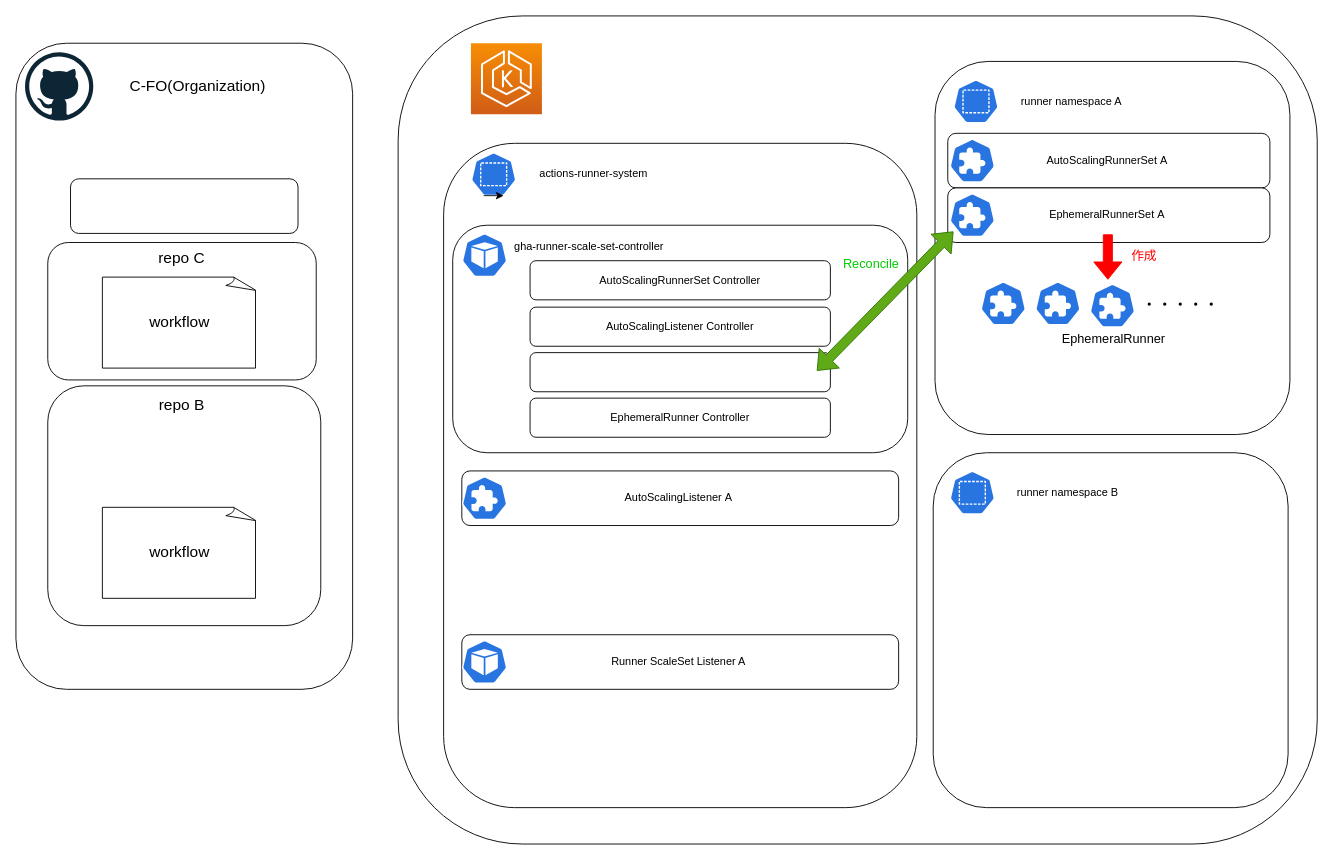
This 1333x860 diagram has some shape labels left out. Here are the shapes that lost their labels. From the top down, the centre of each, then its label:
At pixel 184 205: "RunnerScaleSet A".
At pixel 679 372: "EphemeralRunnerSet Controller".
